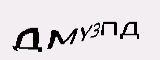К: (27, 12, 54, 39)
Т: (51, 10, 72, 44), (78, 11, 98, 45)
Ю: (100, 16, 117, 37)
Я: (114, 20, 127, 39)
